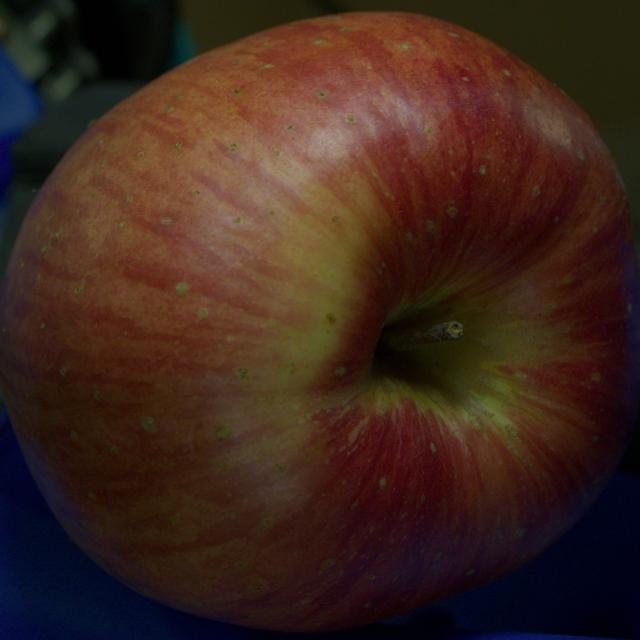apple: (0, 12, 639, 632)
